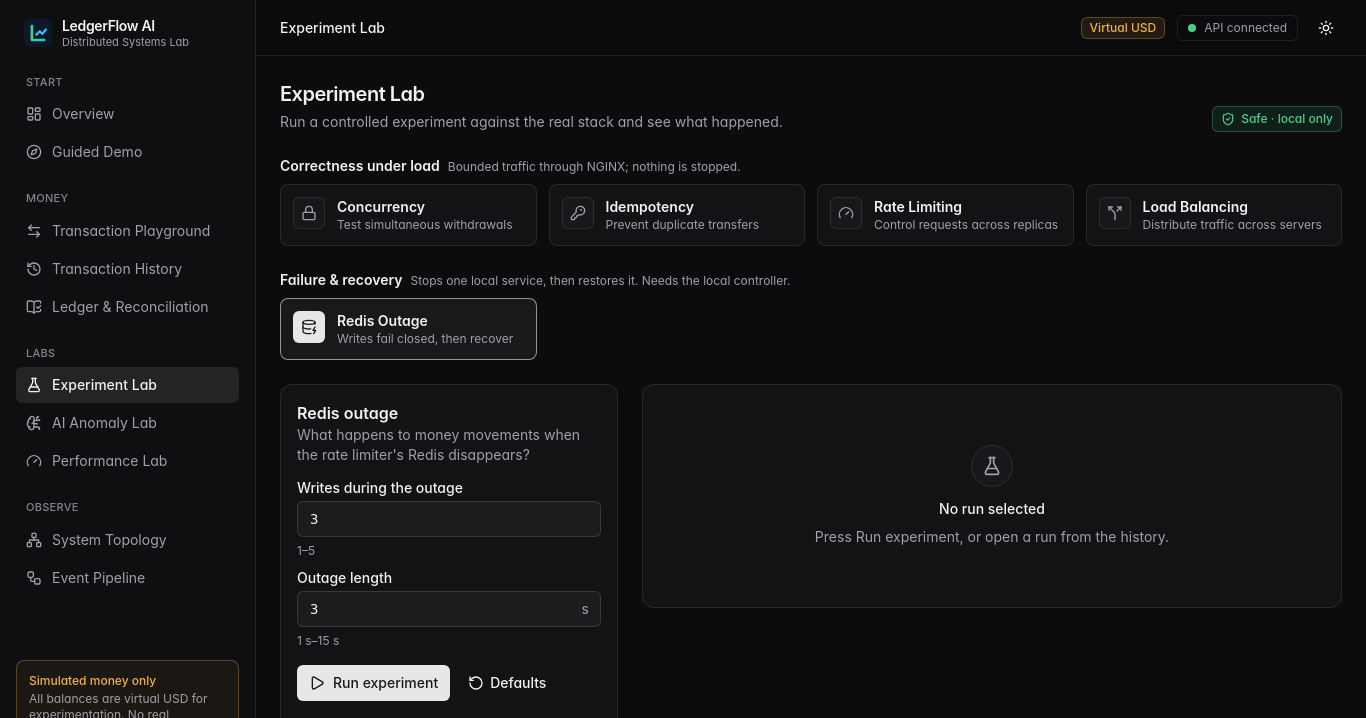
failure experiments in the lab › asks for confirmation, then starts the run through the controller (never the API)
This screenshot has width=1366, height=718.
Click the button "Run experiment".
click(374, 683)  # box [297,665,450,701]
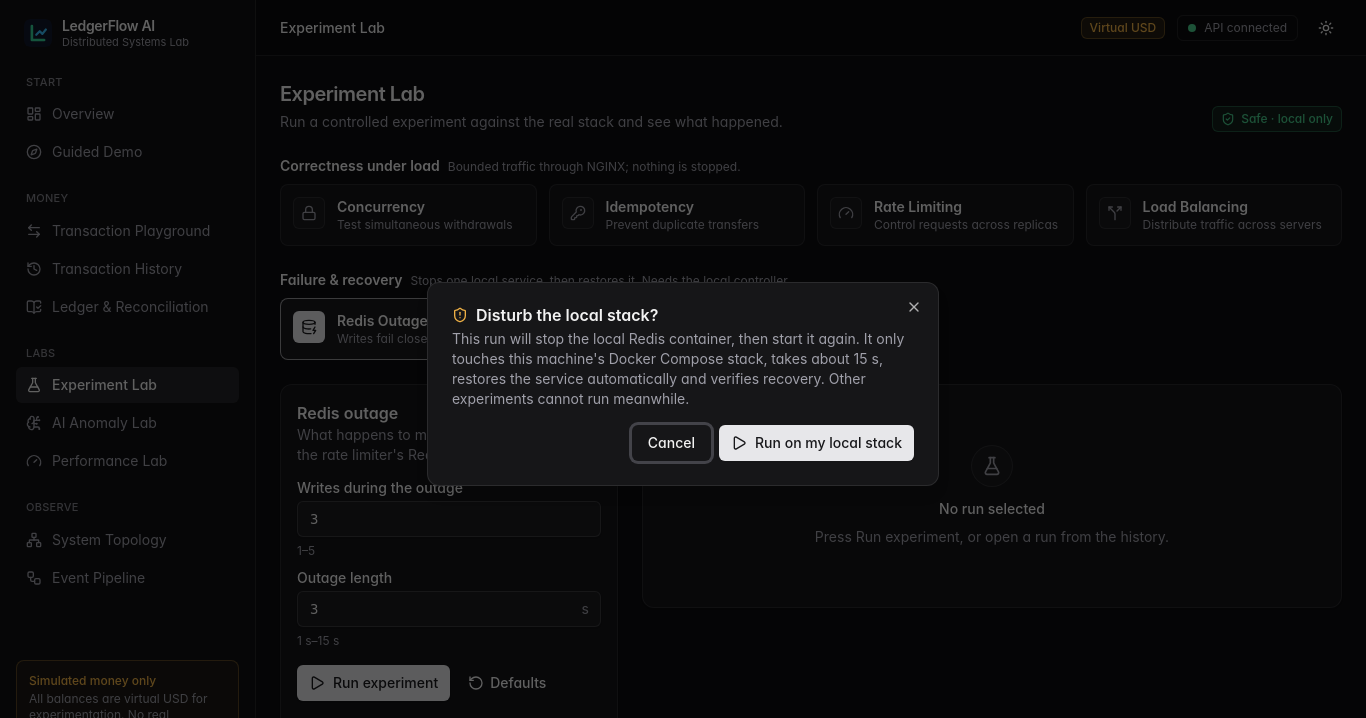
Expected: the dialog "Disturb the local stack" shows "stop the local Redis container", [535,330,856,347]
Click the button "Run on my local stack".
click(816, 443)  # box [719,425,914,461]
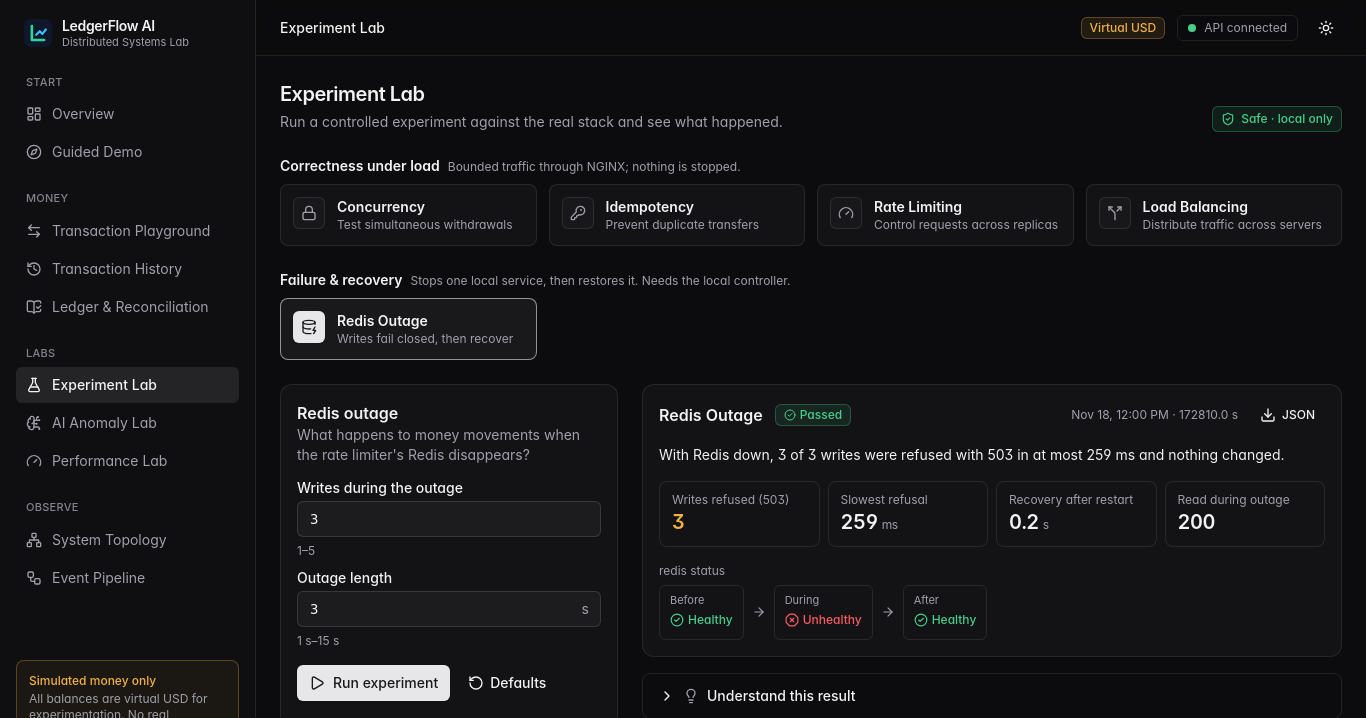
Expected: the text "Unhealthy" is shown, [785,612,862,628]
Expected: the text "3 of 3 writes were refused" is shown, [659,446,1284,463]
